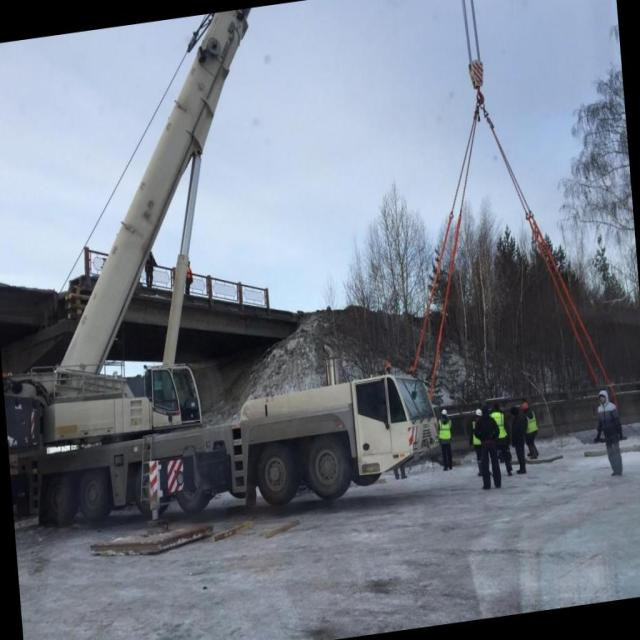crane: (0, 0, 447, 548)
